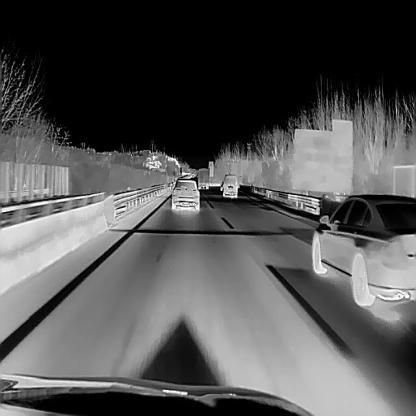car: (312, 192, 416, 308), (171, 175, 199, 211), (222, 173, 237, 197), (197, 166, 210, 189)
